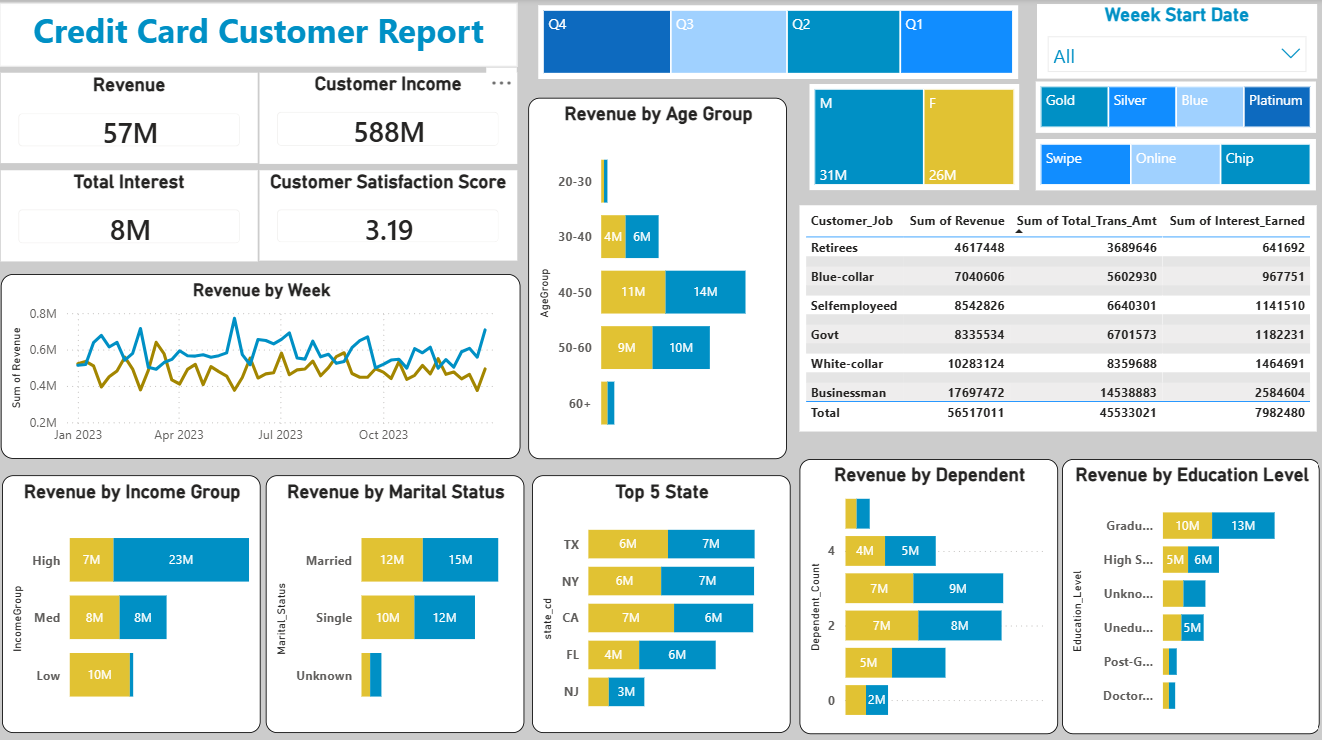

The dashboard page shown, as its layout file describes it:
{"tool":"powerbi","page":{"name":"CC Customer","canvas":[1280,720],"ordinal":1},"visuals":[{"type":"barChart","title":"Revenue by Income Group","fields":{"Y":["Sum(credit_card.Revenue)"],"Category":["customer.IncomeGroup"],"Series":["customer.Gender"]},"box":[4.8,459.7,249.7,248.5],"z":0},{"type":"tableEx","fields":{"Values":["customer.Customer_Job","Sum(credit_card.Revenue)","Sum(credit_card.Total_Trans_Amt)","Sum(credit_card.Interest_Earned)"]},"box":[774.5,199.1,499.5,218.4],"z":1000},{"type":"cardVisual","title":"Revenue","fields":{"Data":["Sum(credit_card.Revenue)"]},"box":[3.6,71.2,248,86.9],"z":2000},{"type":"cardVisual","title":"Total Interest","fields":{"Data":["Sum(credit_card.Interest_Earned)"]},"box":[3.6,165.3,248,88.1],"z":3000},{"type":"cardVisual","title":"Customer Income","fields":{"Data":["Sum(customer.Income)"]},"box":[253.4,71.2,248.5,88.1],"z":4000},{"type":"cardVisual","title":"Customer Satisfaction Score","fields":{"Data":["Avg(customer.Cust_Satisfaction_Score)"]},"box":[253.4,165.3,248.5,86.9],"z":5000},{"type":"textbox","box":[2.4,3.6,500,61.5],"z":6000},{"type":"slicer","title":"Weeek Start Date","fields":{"Values":["credit_card.Week_Start_Date"]},"box":[1003.8,4.8,270.2,72.4],"z":7000},{"type":"treemap","fields":{"Group":["credit_card.Qtr"],"Values":["Avg(credit_card.Client_Num)"]},"box":[522.4,6,463.3,71.2],"z":8000},{"type":"treemap","fields":{"Group":["credit_card.Card_Category"],"Values":["Avg(credit_card.Client_Num)"]},"box":[1003.1,79.6,270.3,49.4],"z":9000},{"type":"lineChart","title":"Revenue by Week","fields":{"Y":["Sum(credit_card.Revenue)"],"Series":["customer.Gender"],"Category":["credit_card.Week_Start_Date.Variation.Date Hierarchy.Year","credit_card.Week_Start_Date.Variation.Date Hierarchy.Quarter","credit_card.Week_Start_Date.Variation.Date Hierarchy.Month","credit_card.Week_Start_Date.Variation.Date Hierarchy.Day"]},"box":[3.6,265.4,501.9,178.6],"z":10000},{"type":"treemap","fields":{"Group":["customer.Gender"],"Values":["Sum(credit_card.Revenue)"]},"box":[784.2,82,202.7,102.5],"z":11000},{"type":"barChart","title":"Revenue by Age Group","fields":{"Y":["Sum(credit_card.Revenue)"],"Category":["customer.AgeGroup"],"Series":["customer.Gender"]},"box":[512.7,95.3,249.7,348.7],"z":12000},{"type":"barChart","title":"Top 5 State","fields":{"Y":["Sum(credit_card.Revenue)"],"Category":["customer.state_cd"],"Series":["customer.Gender"]},"box":[516.4,459.7,249.7,248.5],"z":13000},{"type":"barChart","title":"Revenue by Dependent","fields":{"Y":["Sum(credit_card.Revenue)"],"Category":["customer.Dependent_Count"],"Series":["customer.Gender"]},"box":[774.5,444,249.7,265.4],"z":14000},{"type":"barChart","title":"Revenue by Education Level","fields":{"Y":["Sum(credit_card.Revenue)"],"Category":["customer.Education_Level"],"Series":["customer.Gender"]},"box":[1027.9,444,249.7,265.4],"z":15000},{"type":"barChart","title":"Revenue by Marital Status","fields":{"Y":["Sum(credit_card.Revenue)"],"Category":["customer.Marital_Status"],"Series":["customer.Gender"]},"box":[259.4,459.7,249.7,248.5],"z":16000},{"type":"treemap","fields":{"Values":["Avg(credit_card.Client_Num)"],"Group":["credit_card.Use Chip"]},"box":[1002.6,135.1,270.2,49.5],"z":17000}]}

Visuals, with their boxes in screenshot pixels (x1, y1, x2, y2), scaled from the page's 1280x720 canvas onto the 1322x740 screenshot:
"Revenue by Income Group" barChart: box(5, 472, 263, 728)
tableEx - customer.Customer_Job x Sum(credit_card.Revenue): box(800, 205, 1316, 429)
"Revenue" cardVisual: box(4, 73, 260, 162)
"Total Interest" cardVisual: box(4, 170, 260, 260)
"Customer Income" cardVisual: box(262, 73, 518, 164)
"Customer Satisfaction Score" cardVisual: box(262, 170, 518, 259)
textbox: box(2, 4, 519, 67)
"Weeek Start Date" slicer: box(1037, 5, 1316, 79)
treemap - credit_card.Qtr x Avg(credit_card.Client_Num): box(540, 6, 1018, 79)
treemap - credit_card.Card_Category x Avg(credit_card.Client_Num): box(1036, 82, 1315, 133)
"Revenue by Week" lineChart: box(4, 273, 522, 456)
treemap - customer.Gender x Sum(credit_card.Revenue): box(810, 84, 1019, 190)
"Revenue by Age Group" barChart: box(530, 98, 787, 456)
"Top 5 State" barChart: box(533, 472, 791, 728)
"Revenue by Dependent" barChart: box(800, 456, 1058, 729)
"Revenue by Education Level" barChart: box(1062, 456, 1320, 729)
"Revenue by Marital Status" barChart: box(268, 472, 526, 728)
treemap - Avg(credit_card.Client_Num) x credit_card.Use Chip: box(1035, 139, 1315, 190)
